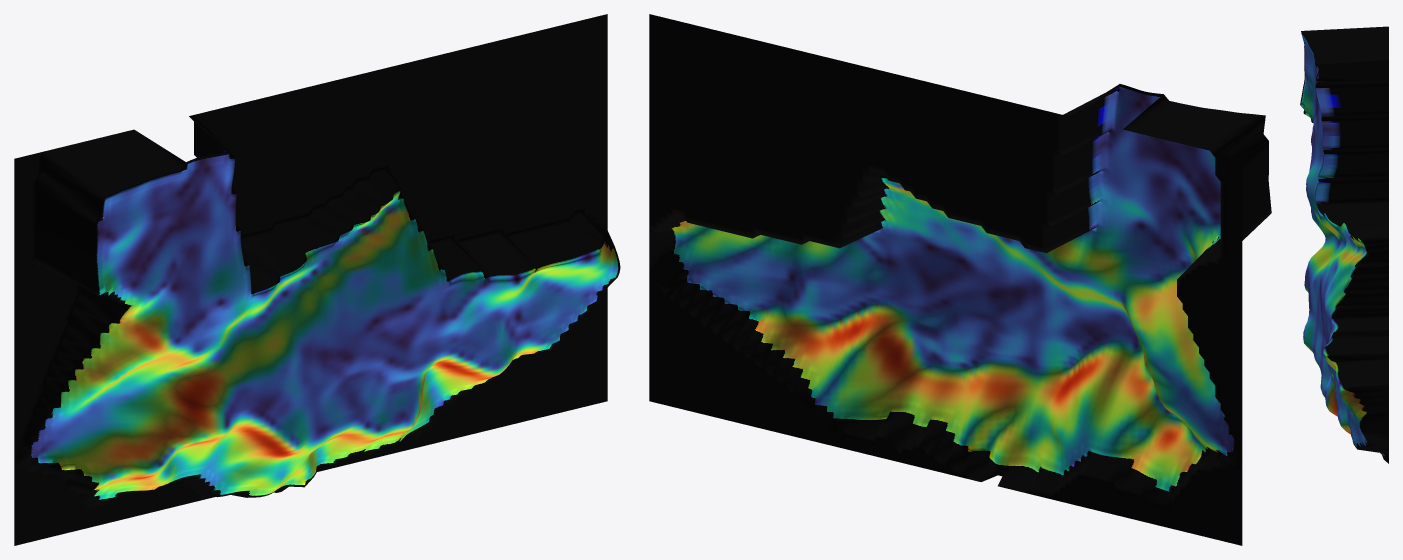
File: tirumala_terrain_slope.glb
3 views of the same model, side by side, from view 1: azimuth 30°, elevation 25°; view 2: azimuth 150°, elevation 25°; view 3: azimuth 270°, elevation 25° (orthographic). The views are drawn at different scales.
Visible parts, largest first — view 1: Tirumala_Terrain_Mesh; view 2: Tirumala_Terrain_Mesh; view 3: Tirumala_Terrain_Mesh.
Boxes of the visible parts, x1,y1,x2,y2 form: Tirumala_Terrain_Mesh: (14, 14, 620, 545); Tirumala_Terrain_Mesh: (649, 14, 1271, 545); Tirumala_Terrain_Mesh: (1300, 26, 1388, 463).
Bounding box in the file's own units: 8720 × 5440 × 1438.
1 material, 1 textured.
